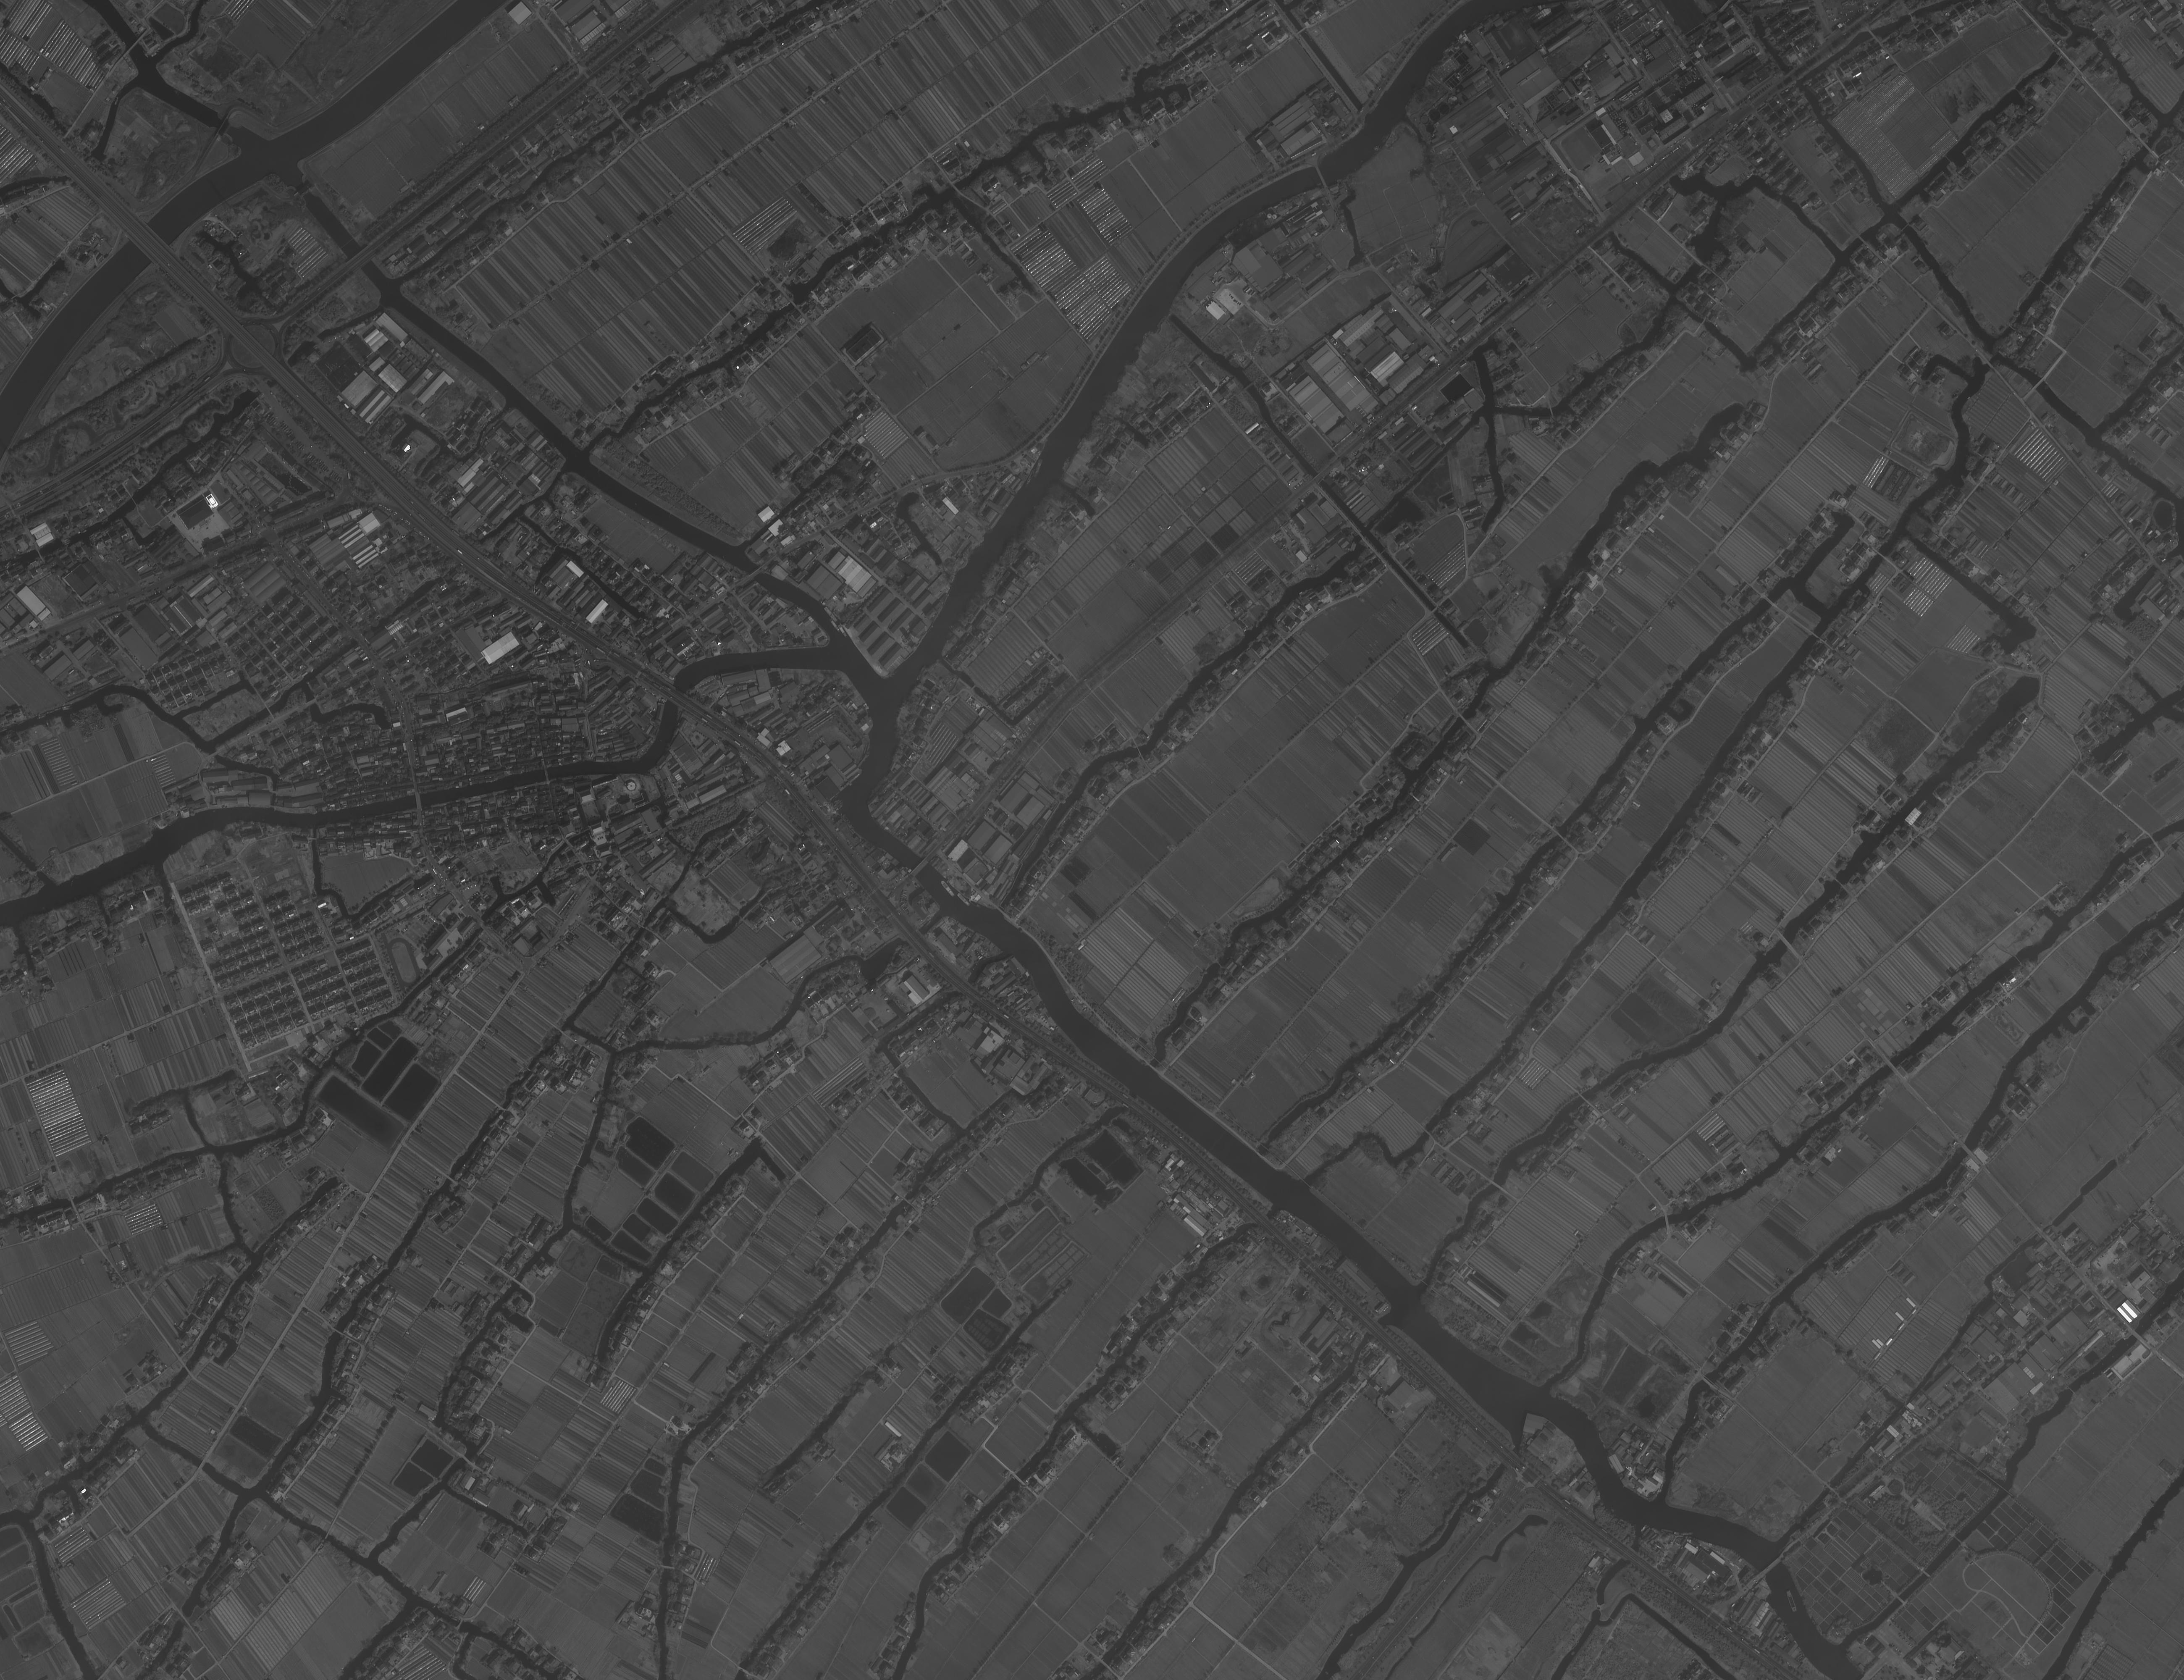ship: (940, 881, 956, 898), (1787, 1590, 1798, 1613), (956, 893, 970, 907)
